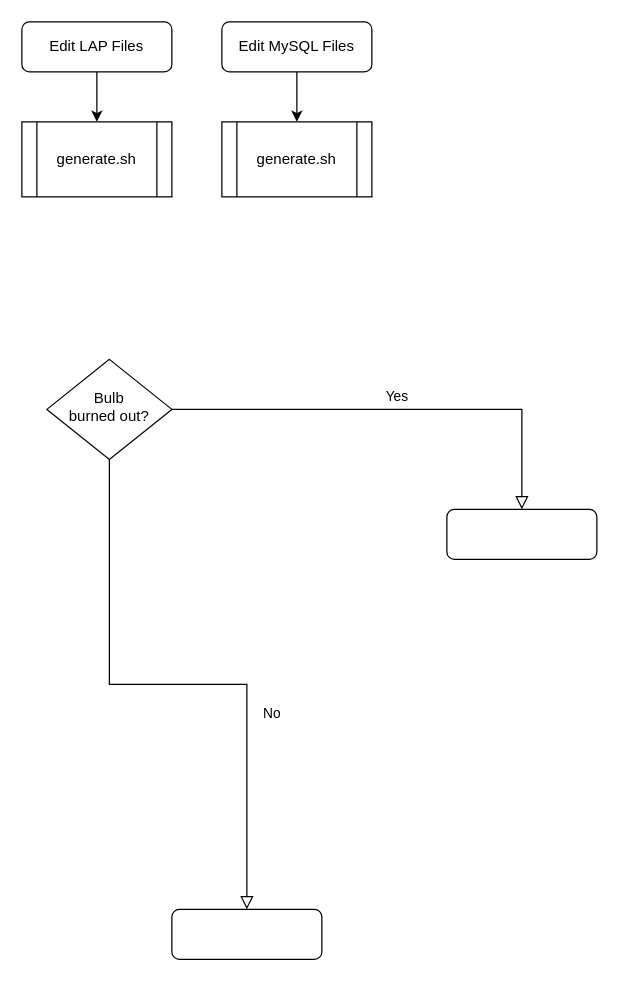
Image size: 619x981. Some labels were removed from this diagram. Here are the shapes that lost their labels. From the top down, the box of each, then its label:
(446, 508, 597, 559): Replace Bulb
(171, 908, 322, 959): Repair Lamp
